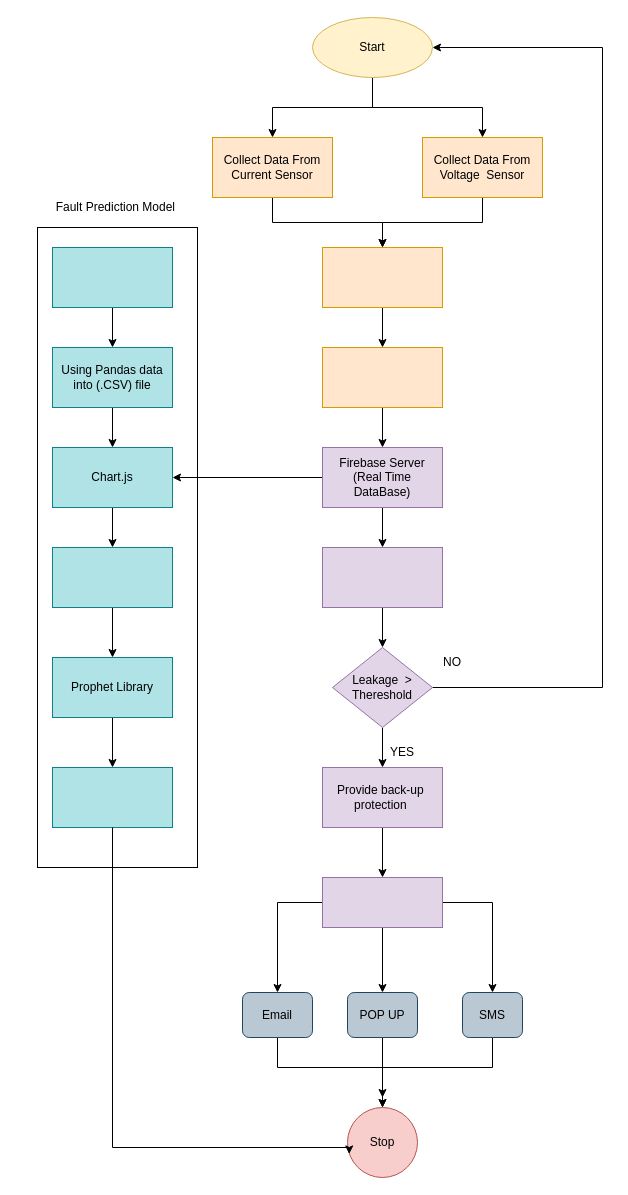
This 628x1195 diagram has some shape labels left out. Here are the shapes that lost their labels. From the top down, the box of each, then its label:
(52, 246, 172, 308): Google API Data of Humidity
(322, 246, 442, 308): Data to ESP32
(322, 346, 442, 408): Host ID
(52, 546, 172, 608): DOM Tree
(322, 546, 442, 608): Calculate Leakage & Earthing Continuity
(52, 766, 172, 828): Maintanence Required in "X" Days
(322, 876, 442, 928): Alert (PopUp) Maintaiance Needed
